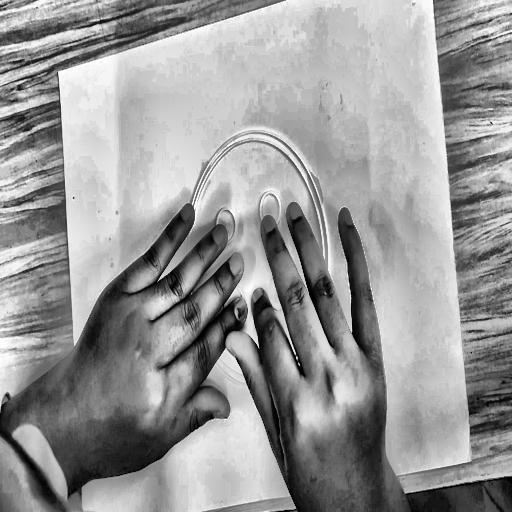bottom_right: (466, 452, 476, 469)
button: (169, 101, 346, 414)
top_left: (55, 67, 62, 80)
